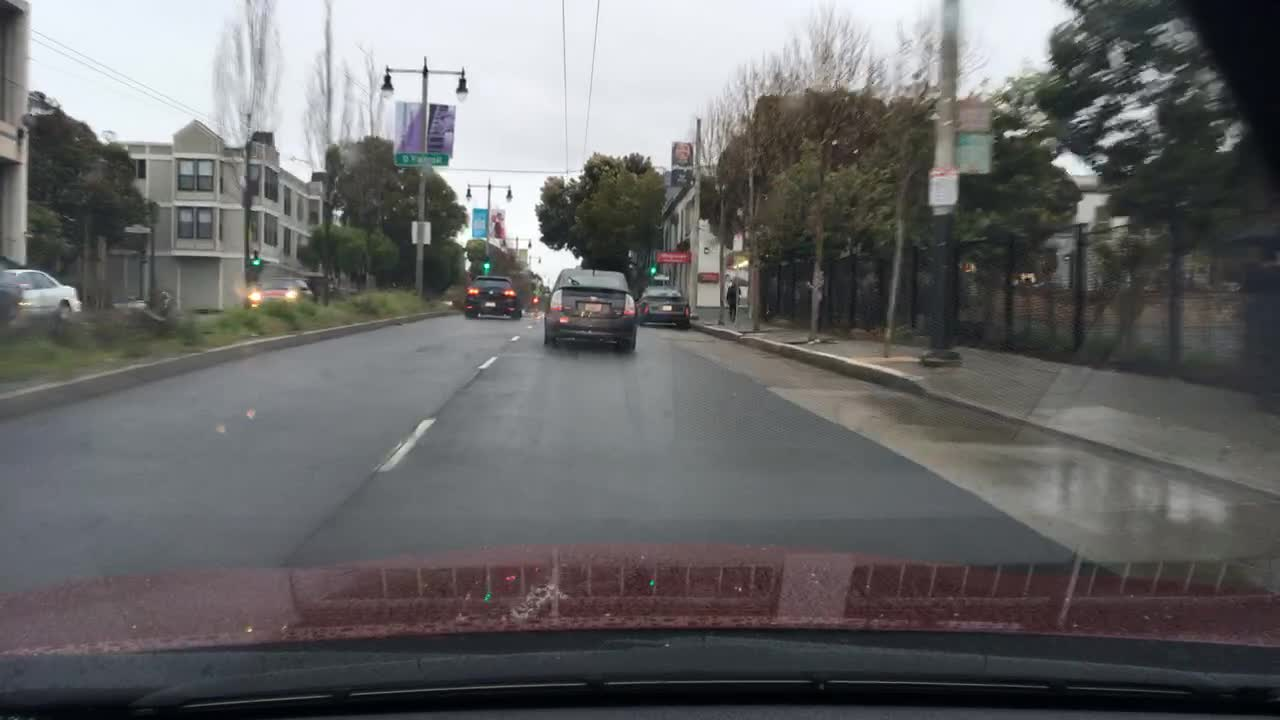car: (544, 266, 640, 354), (0, 266, 81, 317), (240, 275, 314, 314), (462, 275, 524, 321), (636, 284, 692, 331)
person: (725, 278, 745, 323), (107, 297, 153, 310)
traffic light: (151, 200, 161, 222), (252, 248, 261, 269), (484, 260, 491, 274), (649, 261, 655, 274), (533, 297, 538, 306)
traffic sign: (957, 131, 994, 174), (928, 166, 956, 213), (960, 105, 995, 131), (399, 152, 448, 164), (656, 251, 692, 264), (412, 222, 432, 244), (697, 273, 719, 285), (127, 224, 153, 234), (314, 172, 327, 183), (655, 274, 671, 282), (534, 290, 547, 294)
